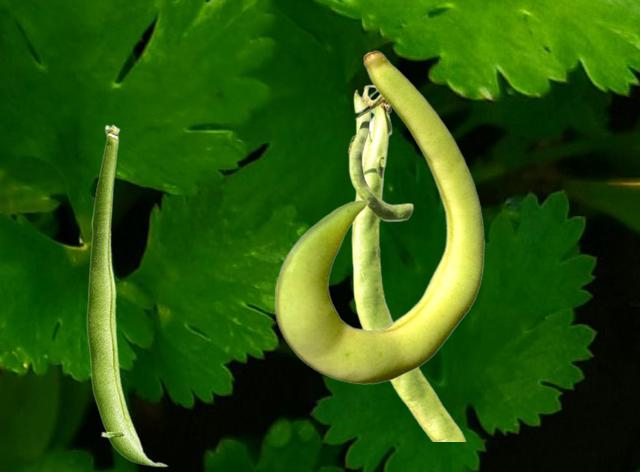french_bean: (274, 50, 484, 383), (347, 84, 465, 440), (86, 124, 168, 466)
